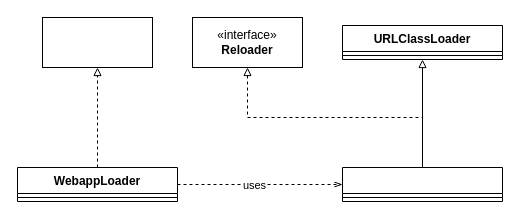
Image size: 520x219. Some labels were removed from this diagram. The box of each missing label's shape, as (x1, y1, x2, y2) in pixels:
WebappClassLoader: (342, 166, 502, 202)
«interface» Loader: (42, 16, 152, 68)
